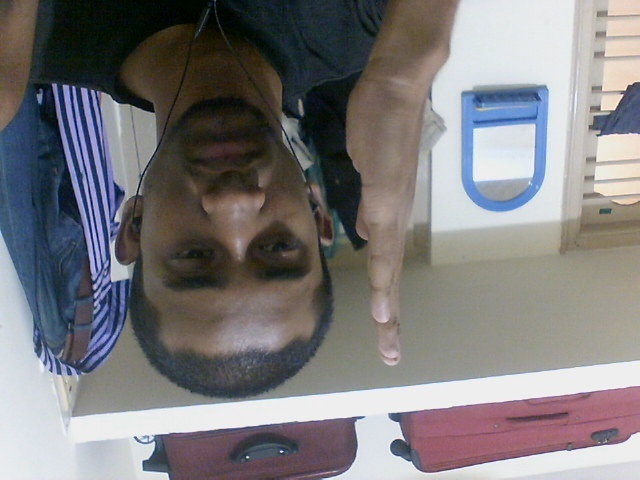hand: (339, 52, 427, 370)
